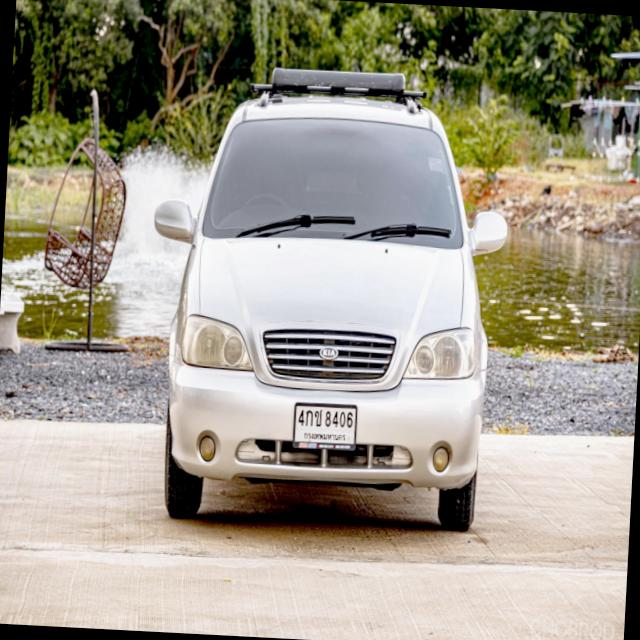license_plate: (291, 402, 358, 455)
